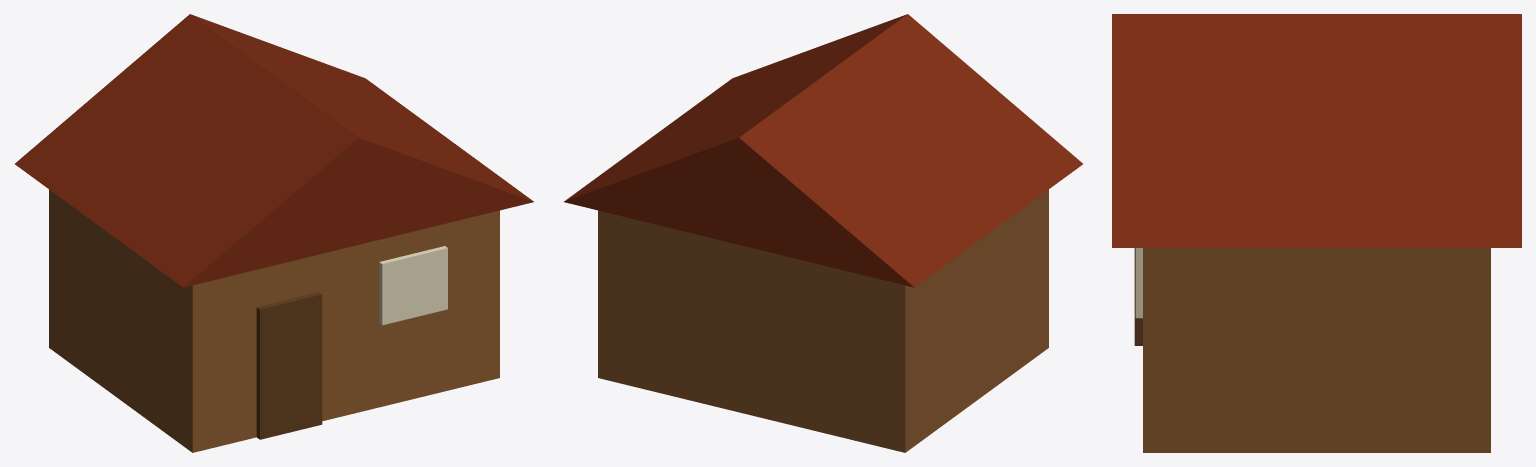
The model's file is sarah_house.glb.
3 views of the same model, side by side, from view 1: azimuth 30°, elevation 25°; view 2: azimuth 150°, elevation 25°; view 3: azimuth 270°, elevation 25° (orthographic). The views are drawn at different scales.
Visible parts, largest first — view 1: sarah_house; view 2: sarah_house; view 3: sarah_house.
Boxes of the visible parts, x1,y1,x2,y2 form: sarah_house: (15, 14, 533, 452); sarah_house: (564, 14, 1082, 452); sarah_house: (1112, 14, 1521, 452).
Bounding box in the file's own units: 4.8 × 3.75 × 4.
